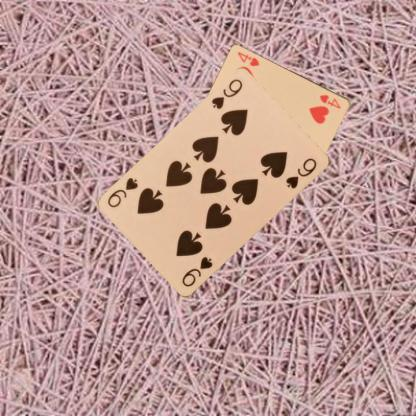4h: (317, 92, 342, 110)
9s: (208, 76, 244, 111), (179, 254, 214, 289)
